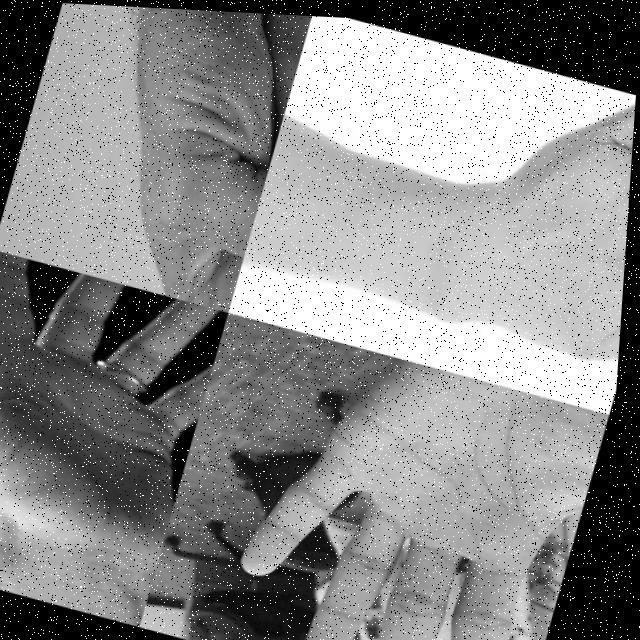no-gloves: (223, 325, 618, 640), (0, 247, 234, 585), (63, 3, 312, 310), (453, 56, 638, 364)
